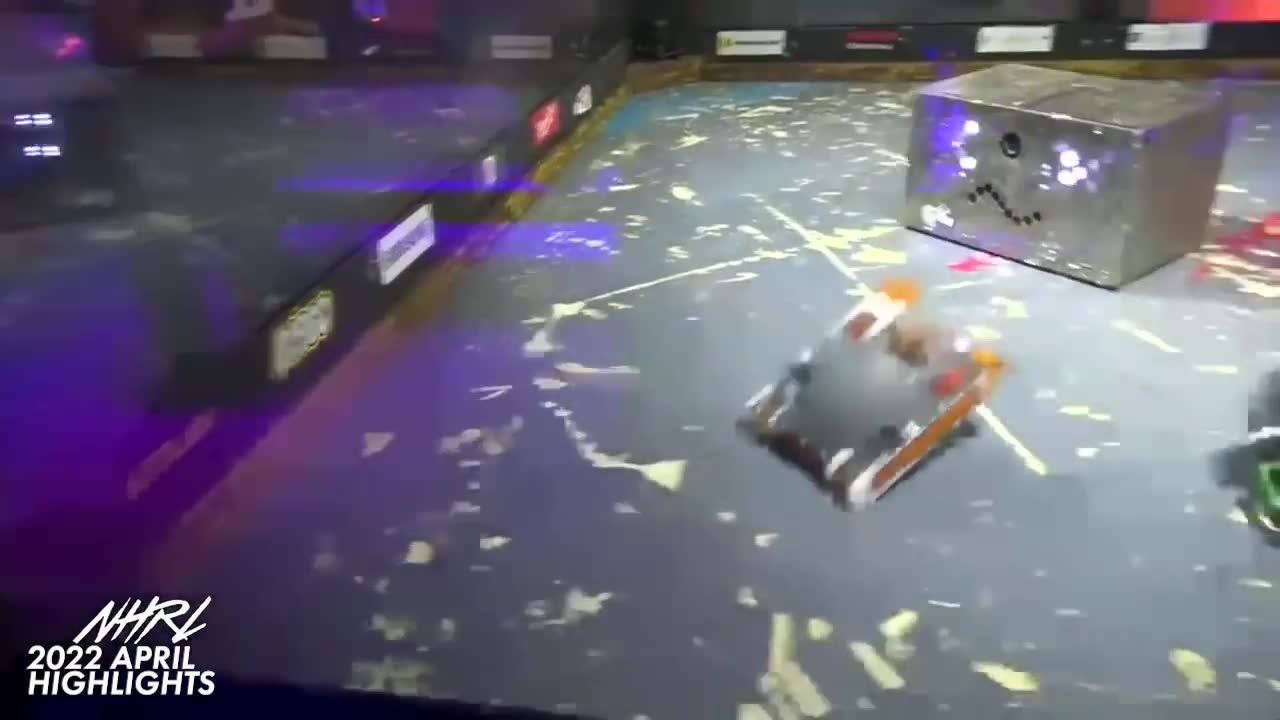combatbot: (732, 286, 1010, 512), (1210, 369, 1280, 555)
housebot: (908, 57, 1227, 291)
